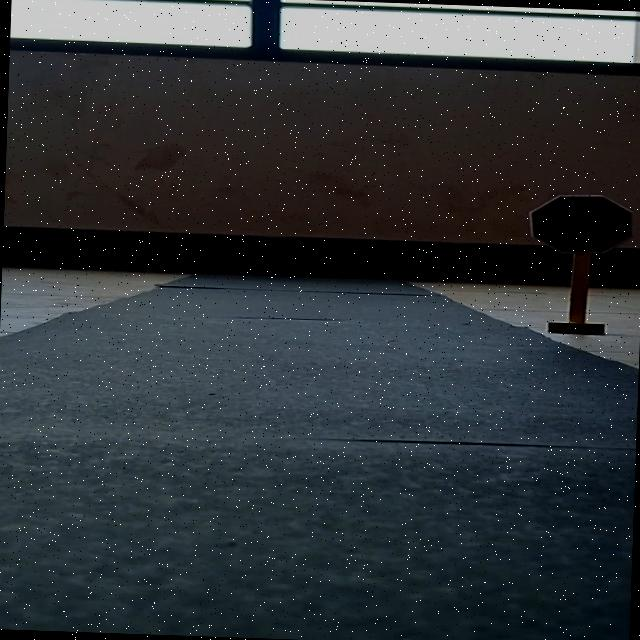Stop: (527, 192, 636, 256)
